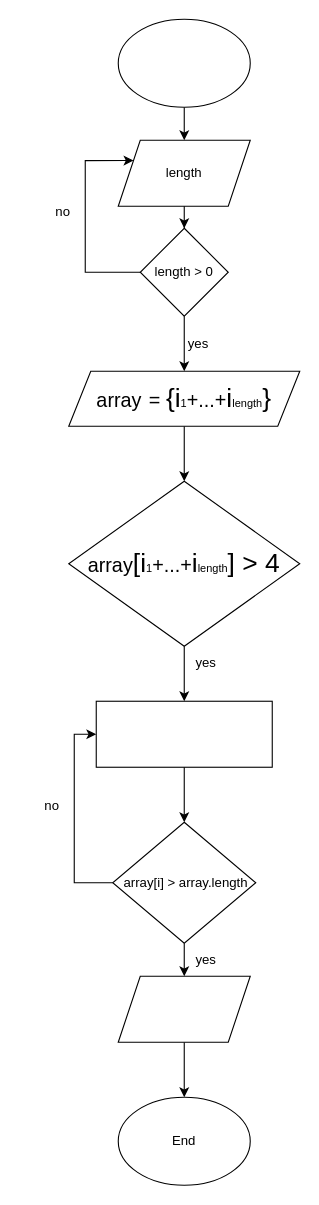
Some shapes in this 319 by 1205 pixel diagram are drawn without their labels. The box of each missing label's shape, as (x1, y1, x2, y2) in pixels:
array2[]: (117, 975, 250, 1042)
array2[count] = array[i] count++: (95, 700, 272, 767)
Begin: (117, 18, 250, 107)
